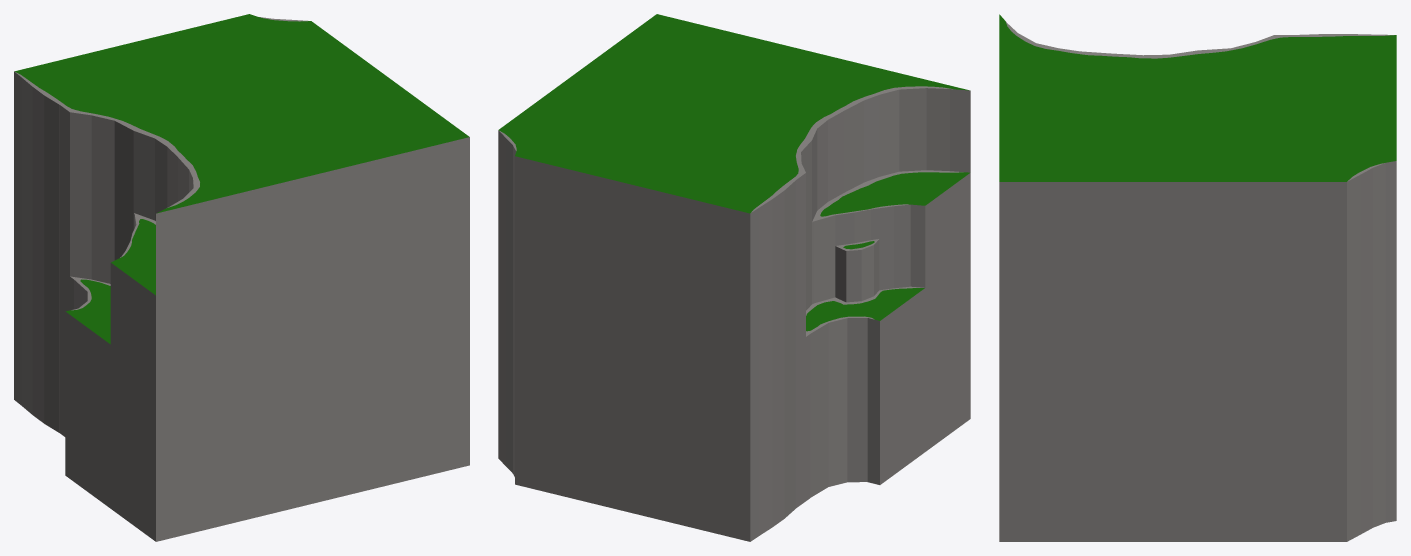
The model's file is MountainToStairDoubleMountain.fbx.
3 renders of one model, left to right at view 1: azimuth 30°, elevation 25°; view 2: azimuth 150°, elevation 25°; view 3: azimuth 270°, elevation 25°, orthographic. The views are drawn at different scales.
Visible parts, largest first — view 1: Plane.023; view 2: Plane.023; view 3: Plane.023.
Boxes of the visible parts, <box> form: Plane.023: <box>14,14,469,541</box>; Plane.023: <box>498,14,970,541</box>; Plane.023: <box>999,14,1396,541</box>.
Size of the model in its own units: 100 by 100 by 100.
